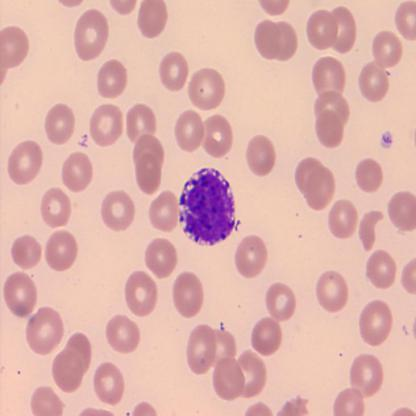Basophil: (175, 164, 242, 249)
